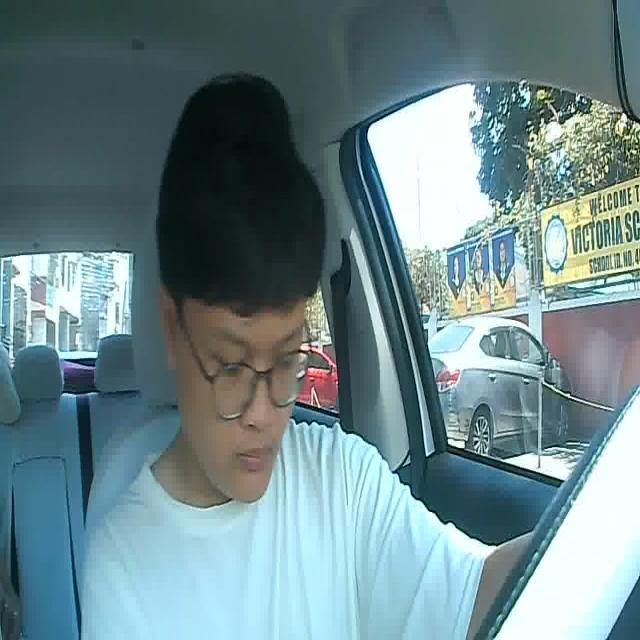Eye-Close: (216, 347, 248, 374), (270, 348, 302, 375)
Inattentive: (160, 98, 326, 505)
Normal: (237, 447, 275, 468)
